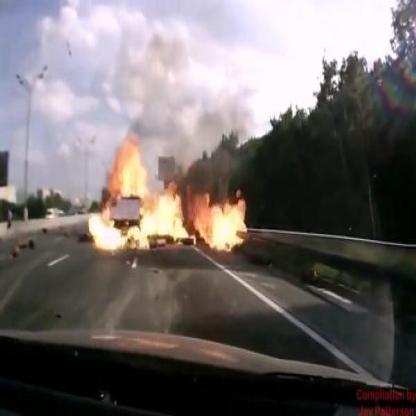fire: (88, 128, 250, 258)
